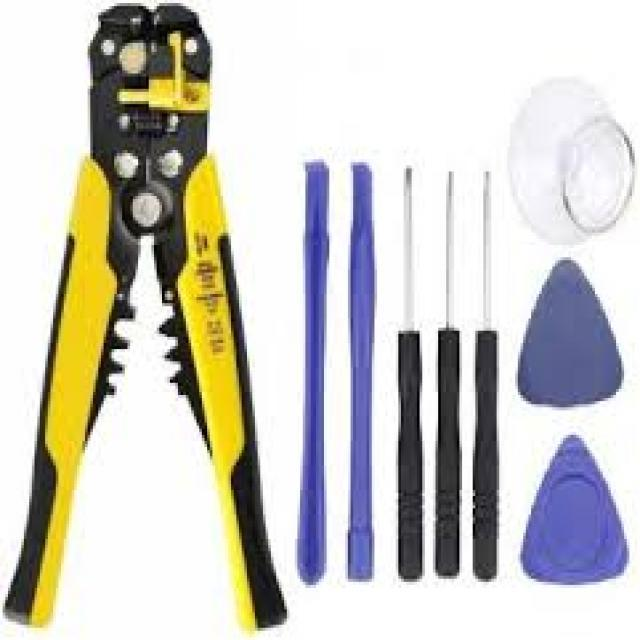pliers: (23, 0, 274, 637)
